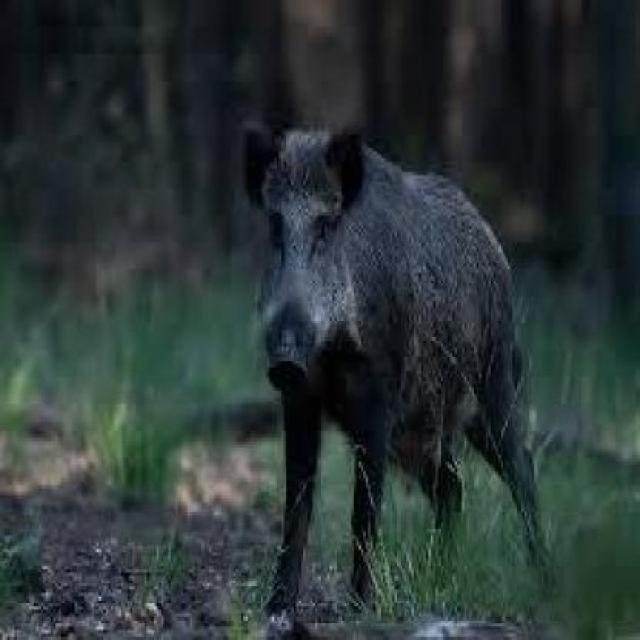wildboar: (229, 113, 548, 618)
